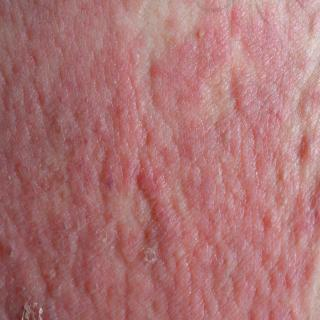urticaria: (25, 22, 312, 316)
